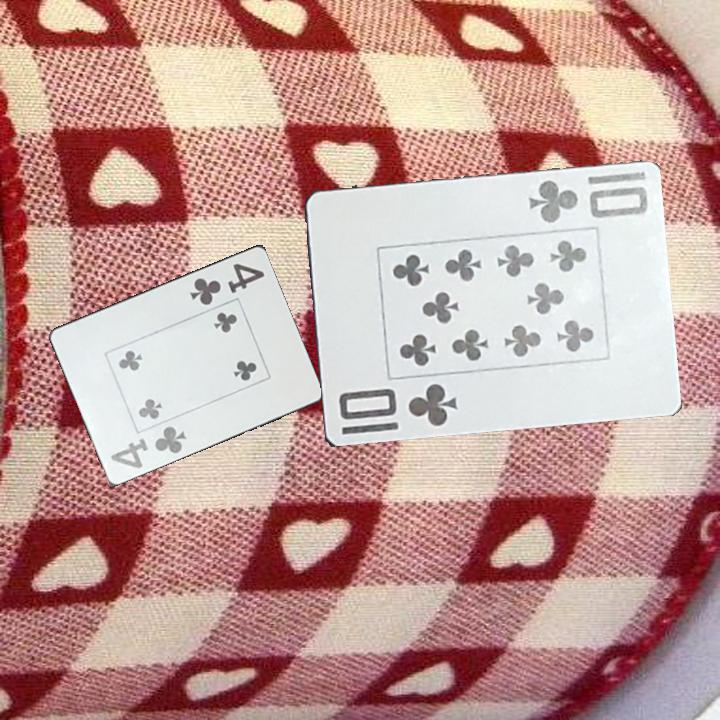4c: (107, 422, 190, 471), (186, 259, 268, 308)
Tc: (524, 168, 650, 227), (334, 380, 461, 430)
